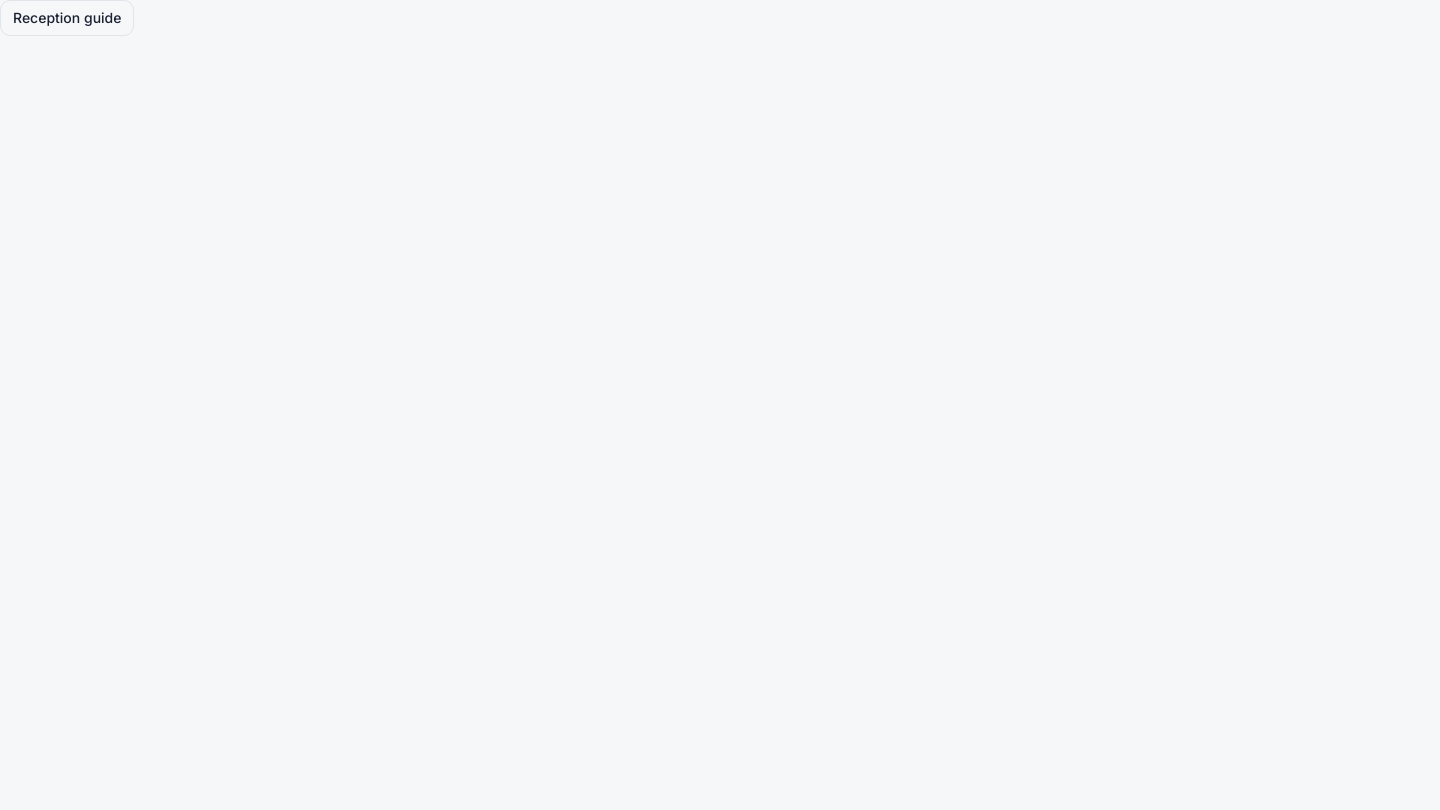
Test: ReceptionGuide › supports English and queue navigation
Step 1. Click the button "Reception guide" → (67, 18), box [0,0,134,36]
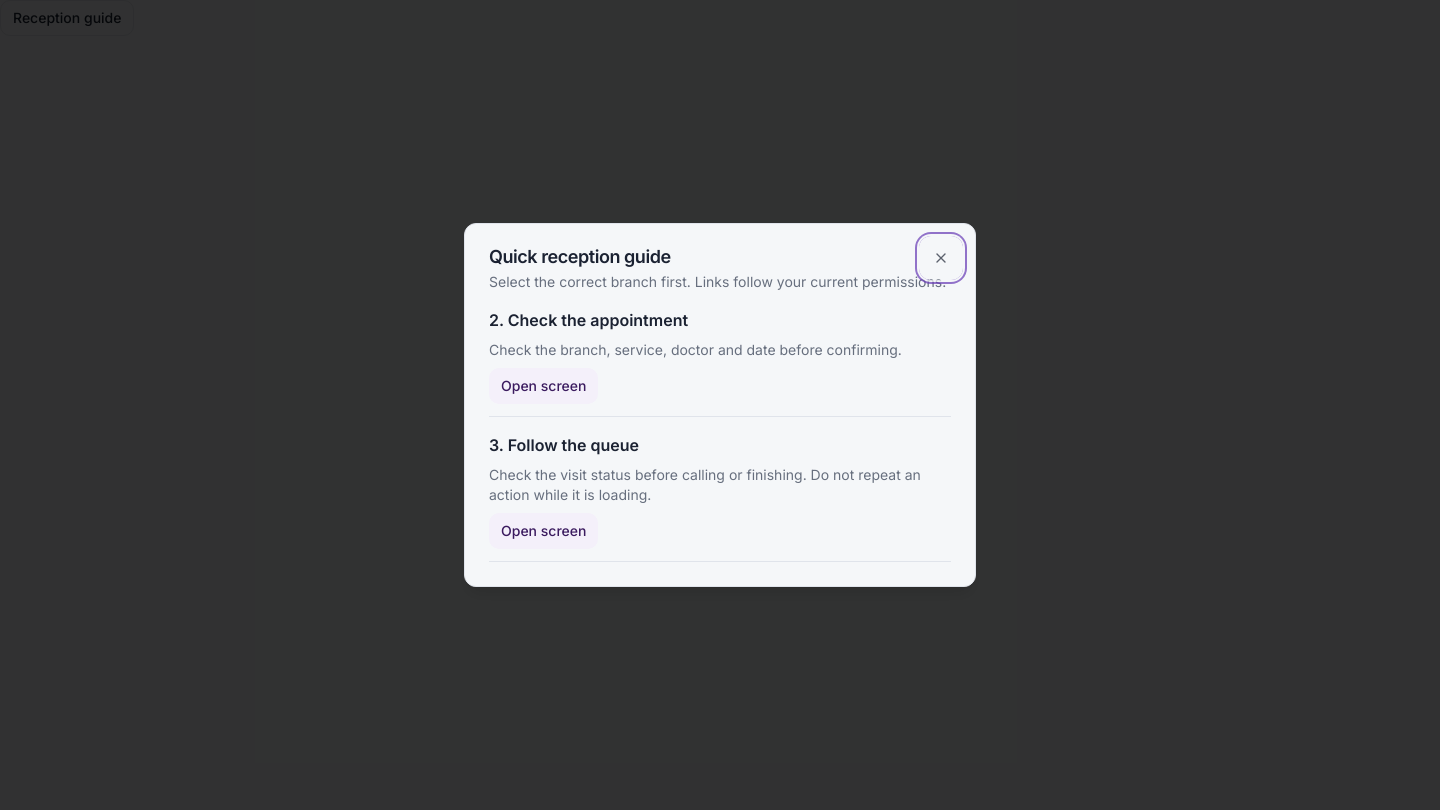
Expected: the heading "3. Follow the queue" is shown, [489,435,639,455]
